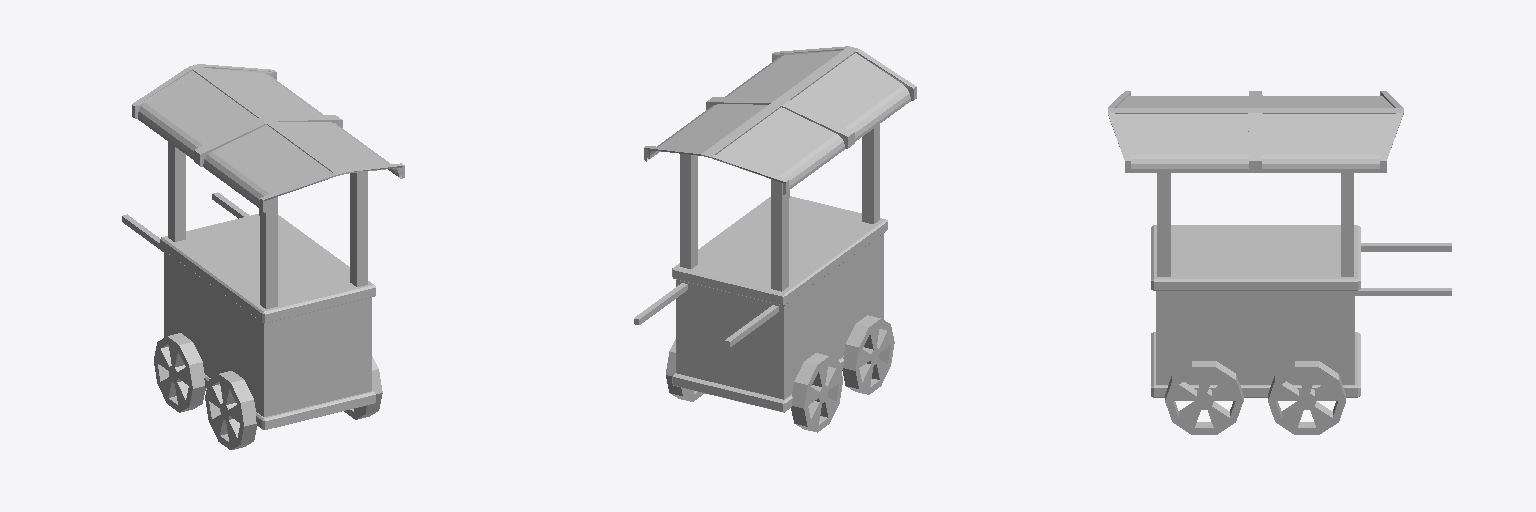
File: POEFoodCart 1.obj
The picture shows the model from 3 angles: view 1: azimuth 30°, elevation 25°; view 2: azimuth 150°, elevation 25°; view 3: azimuth 270°, elevation 25°; orthographic projection.
Parts seen in each view (by area): view 1: FoodCart; view 2: FoodCart; view 3: FoodCart.
Boxes of the visible parts, <box> form: FoodCart: <box>122,64,404,449</box>; FoodCart: <box>634,46,916,432</box>; FoodCart: <box>1108,91,1451,434</box>.
Bounding box in the file's own units: 2.5 × 4.9 × 5.26.